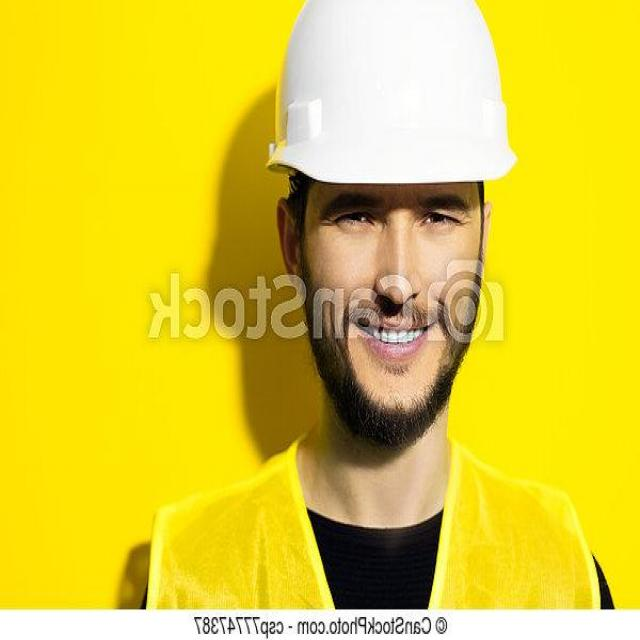Reflective-Jacket: (140, 438, 621, 611)
Safety-Helmet: (267, 4, 516, 190)
